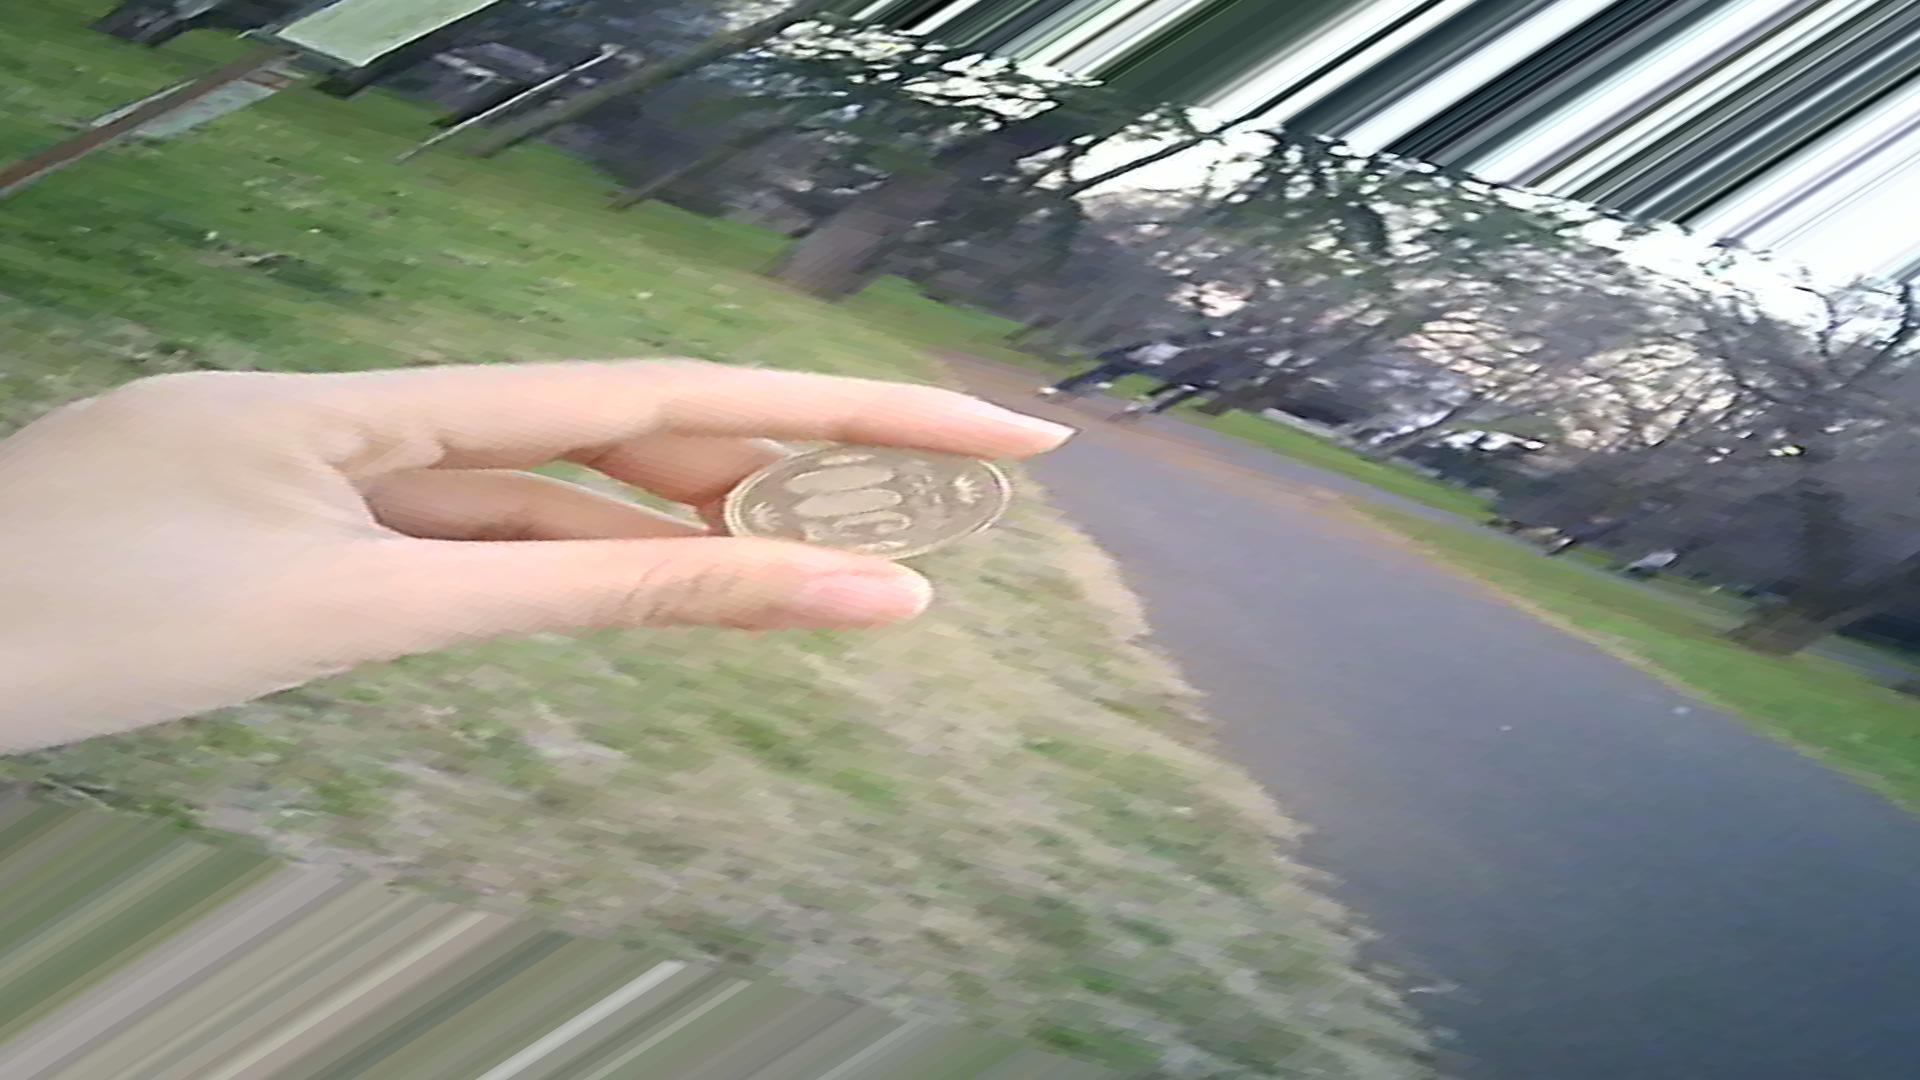500 Yen: (705, 415, 1011, 568)
